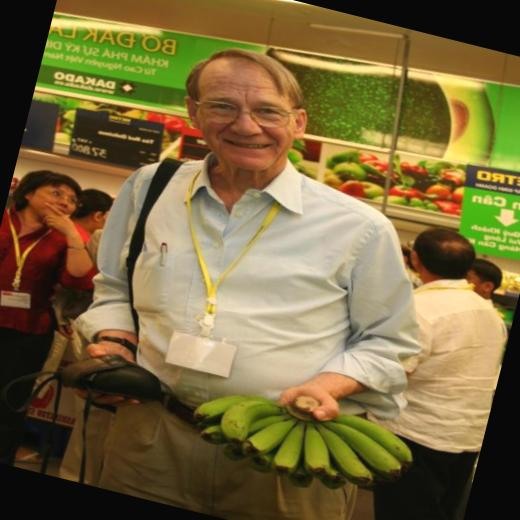Banana: (183, 365, 421, 509)
